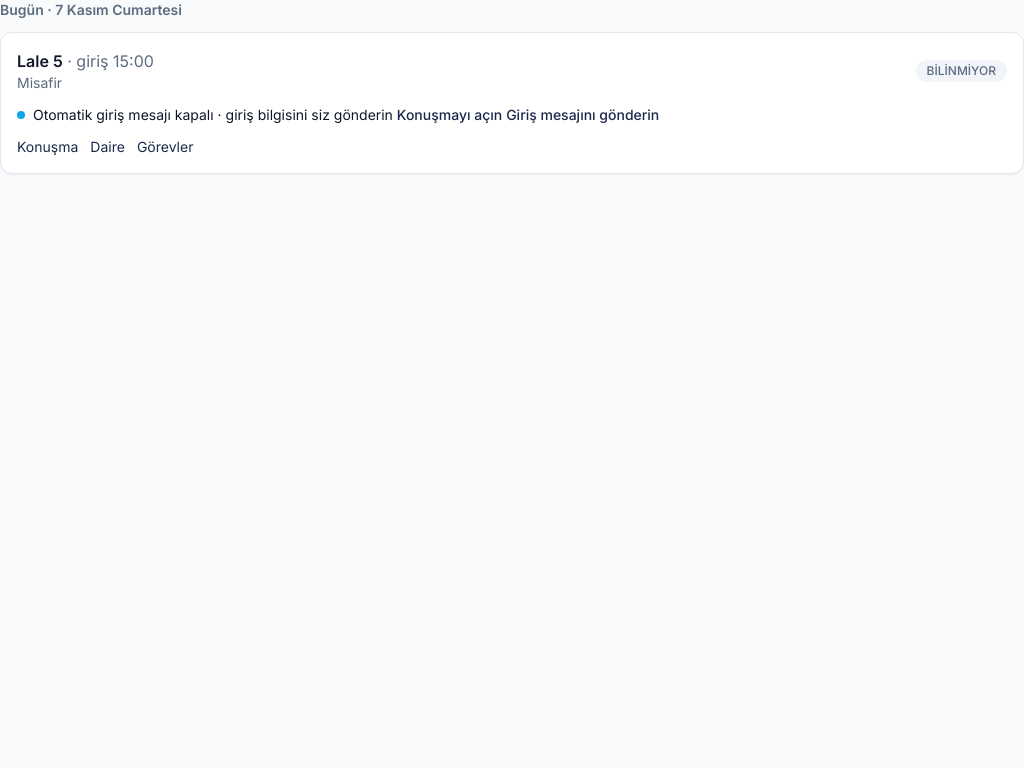
Test case: Girişler — giriş mesajını elle gönderme › metin listede YOK; düğmeye basınca istenir ve tam hâli + uyarı gösterilir; 'Gönderin' önizlenen sürümü yollar
expect the text "4821" is not shown: met
Click the button "Giriş mesajını gönderin".
click(583, 115)  # box [506,105,659,125]
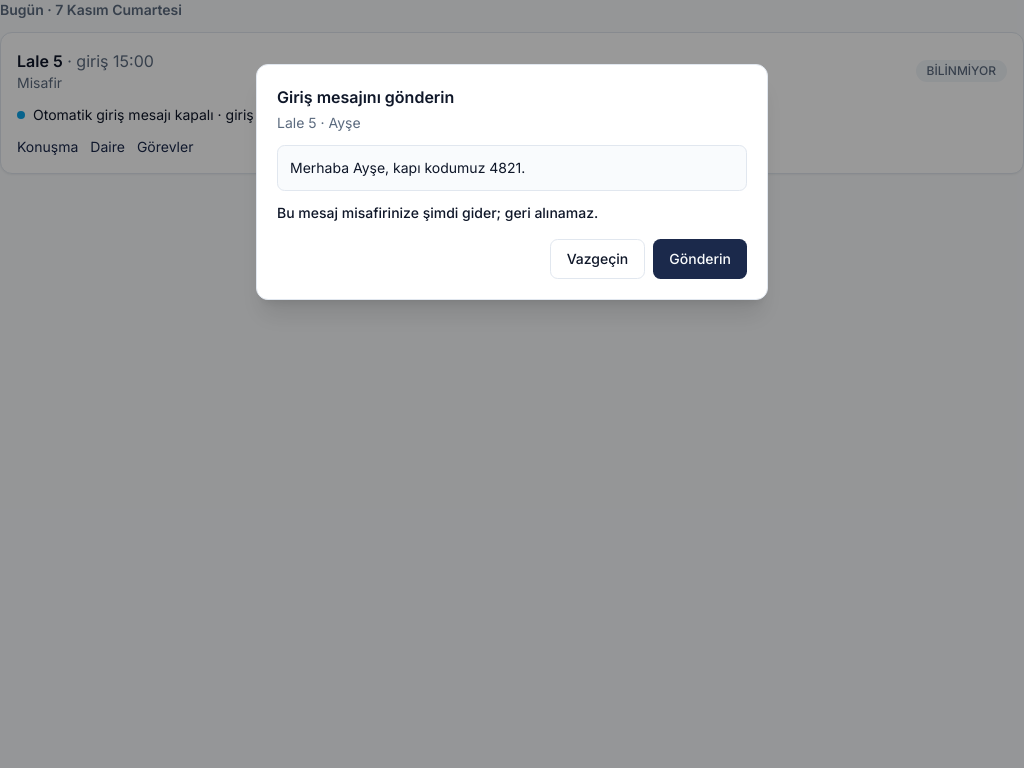
expect the dialog "Giriş mesajını gönderin" shows "Merhaba Ayşe, kapı kodumuz 4821.": met, box [290,159,525,176]
expect the dialog "Giriş mesajını gönderin" shows "Bu mesaj misafirinize şimdi gider; geri alınamaz.": met, box [277,204,598,221]
Click the button "Gönderin".
click(700, 259)  # box [653,239,747,279]
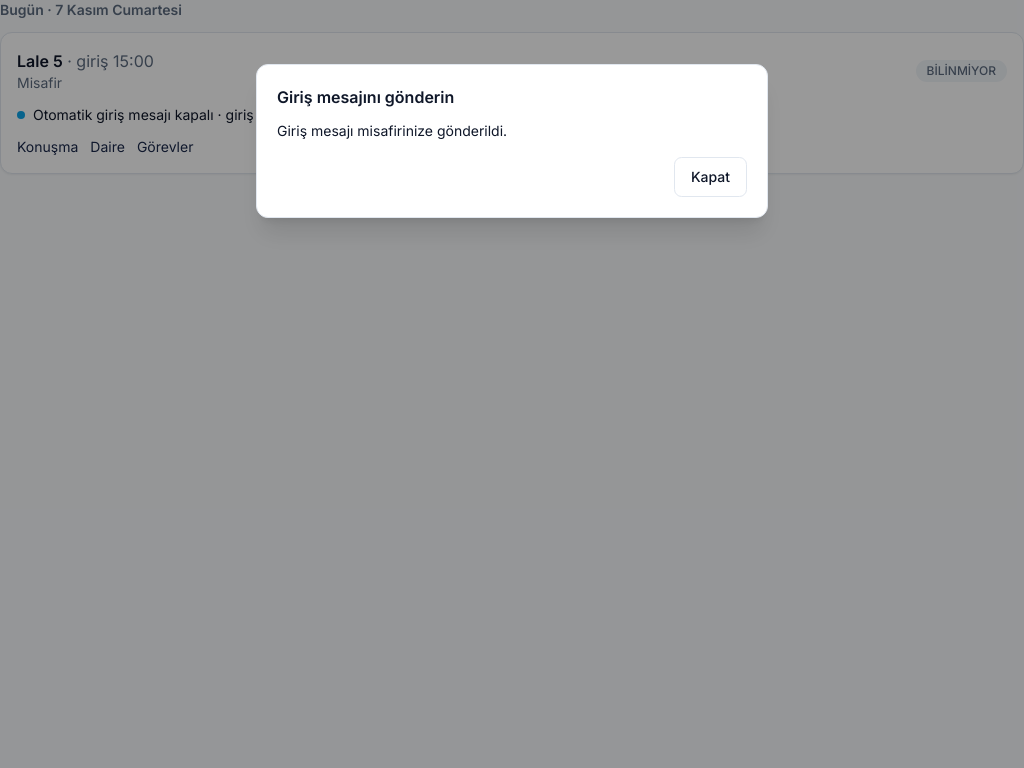
expect the message reads "Giriş mesajı misafirinize gönderildi.": met, box [277,122,507,139]
Click the button "Kapat".
click(710, 177)  # box [674,157,747,197]
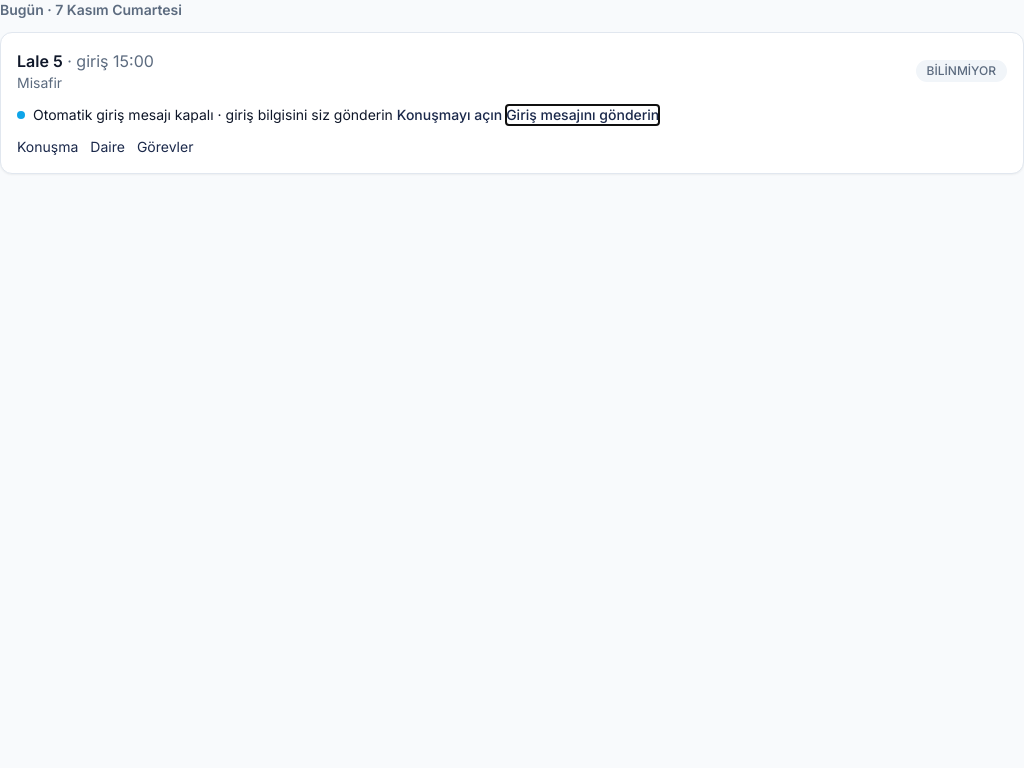
expect the dialog is gone: met
